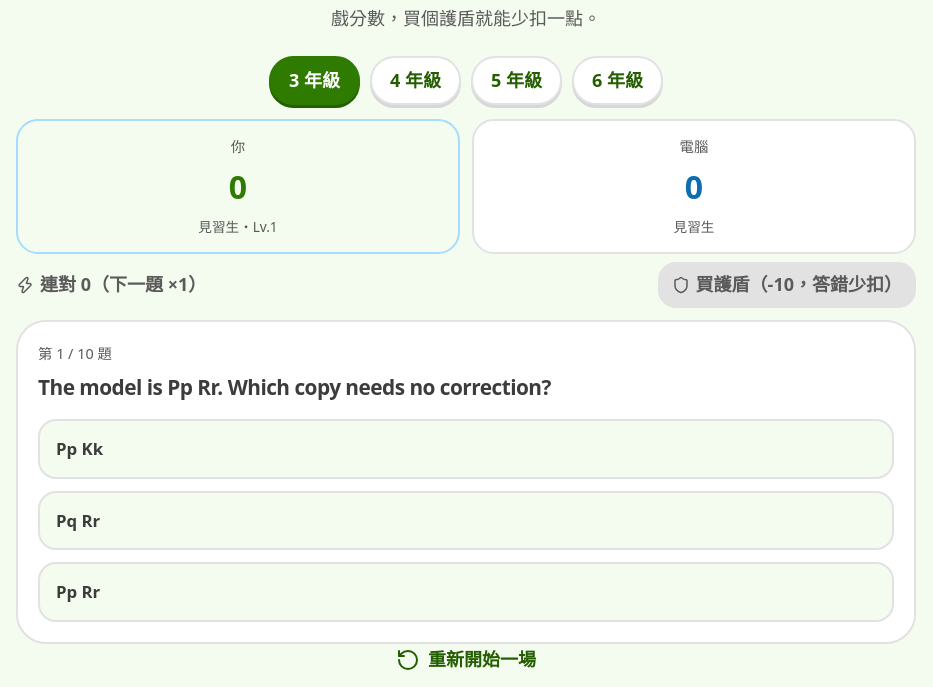
Scenario: ArenaPage › shows feedback and a next-step button after answering
(page scrolled)
Click the button "Pp Kk" at (80, 449), box [38,419,894,479]
(page scrolled)
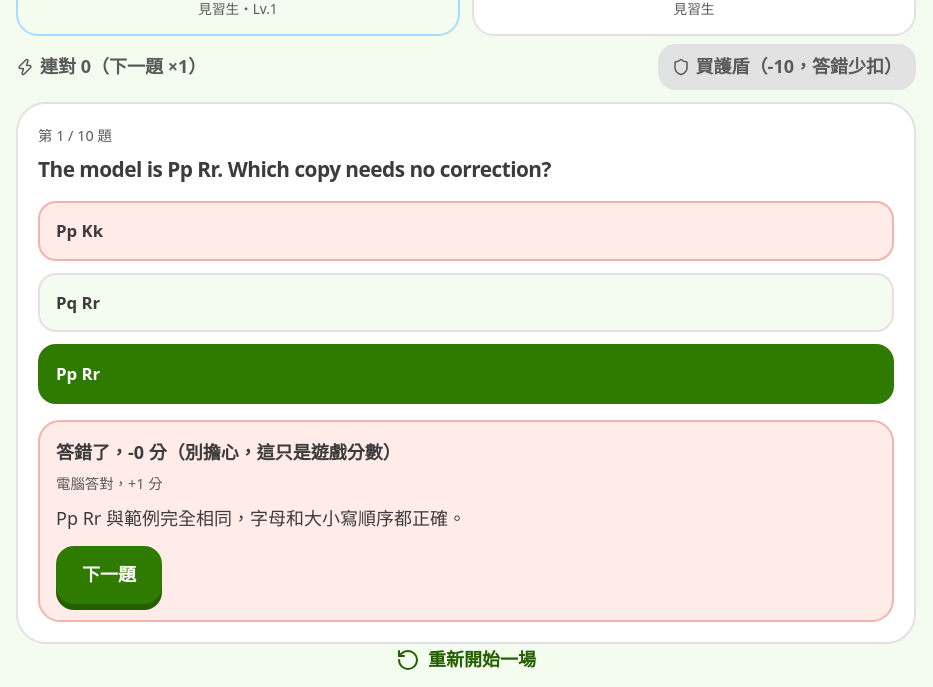
Result: the text "答錯了，-0 分（別擔心，這只是遊戲分數）" is shown at [56,440,401,464]
Result: the button "下一題" is shown at [56,546,162,604]
